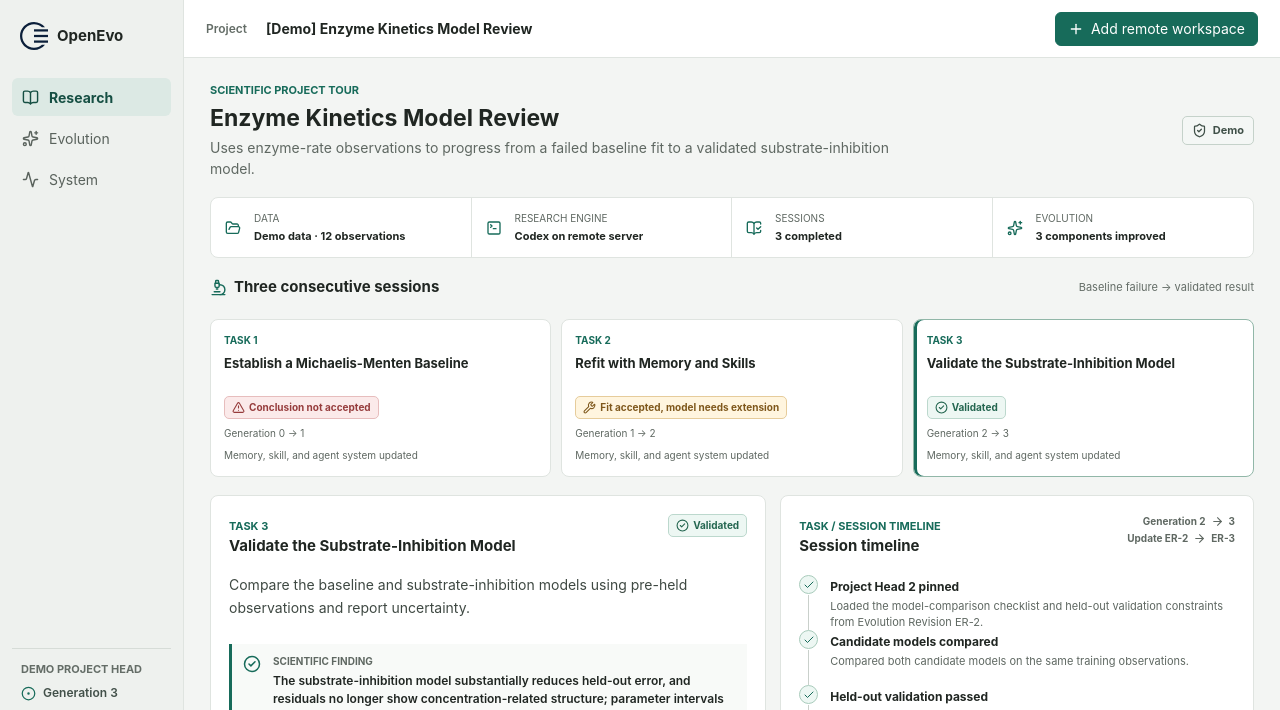
Test: Desktop v2 product renderer › retries failed SSH cleanup as disconnect and keeps lost authority blocked
The width and height of the screenshot is (1280, 710).
Click the button "Add remote workspace" at (1156, 28), box top-left (1055, 12), bottom-right (1258, 46)
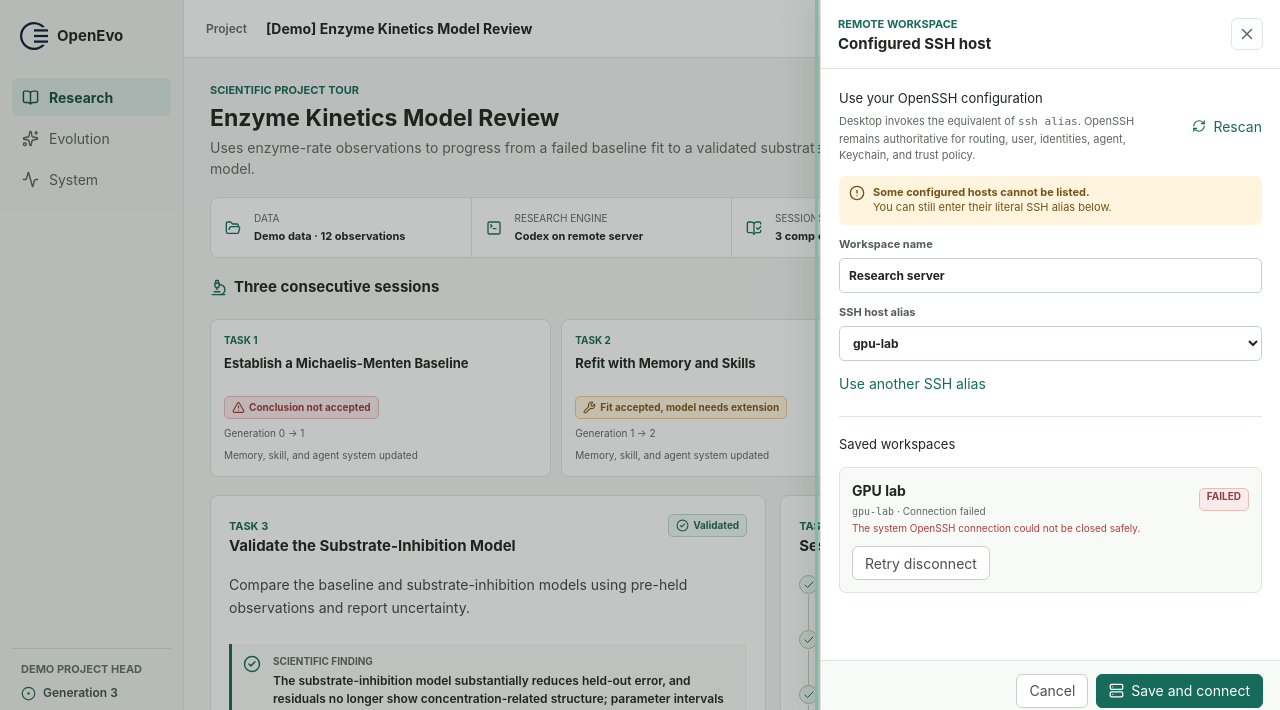
Click the button "Retry disconnect" at (921, 563), box top-left (852, 546), bottom-right (990, 580)
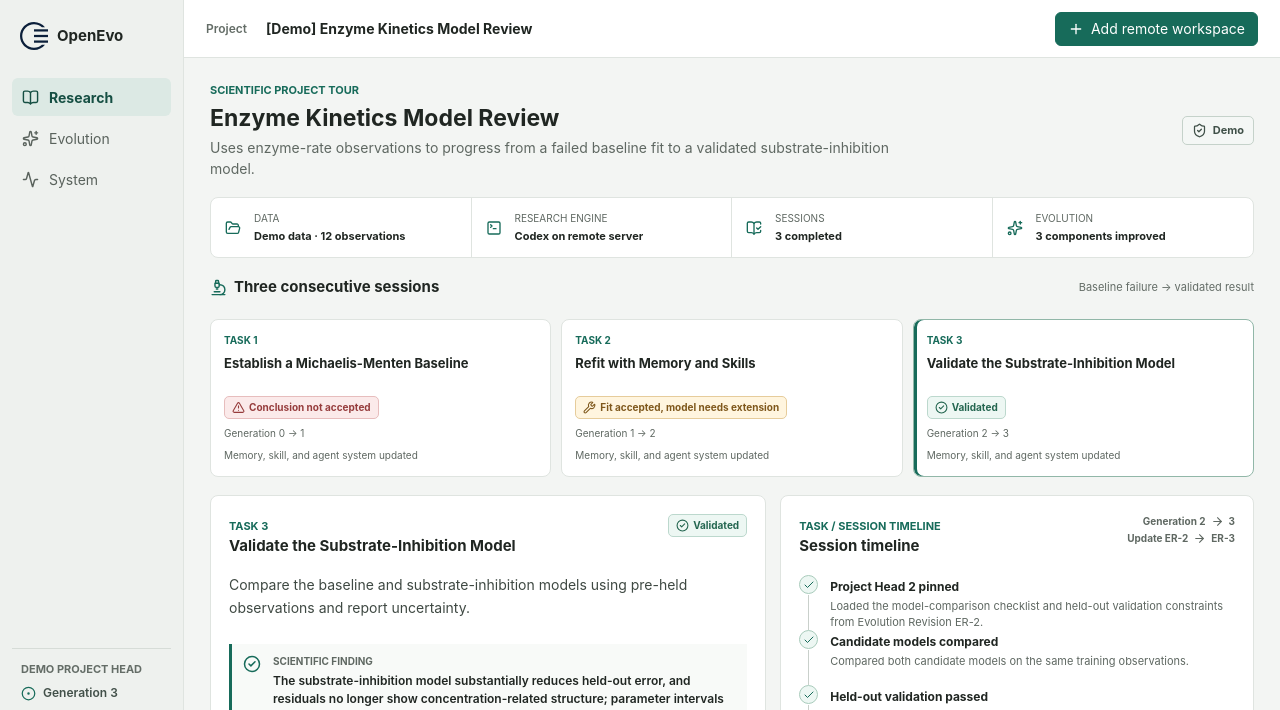
Click the button "Add remote workspace" at (1156, 28), box top-left (1055, 12), bottom-right (1258, 46)
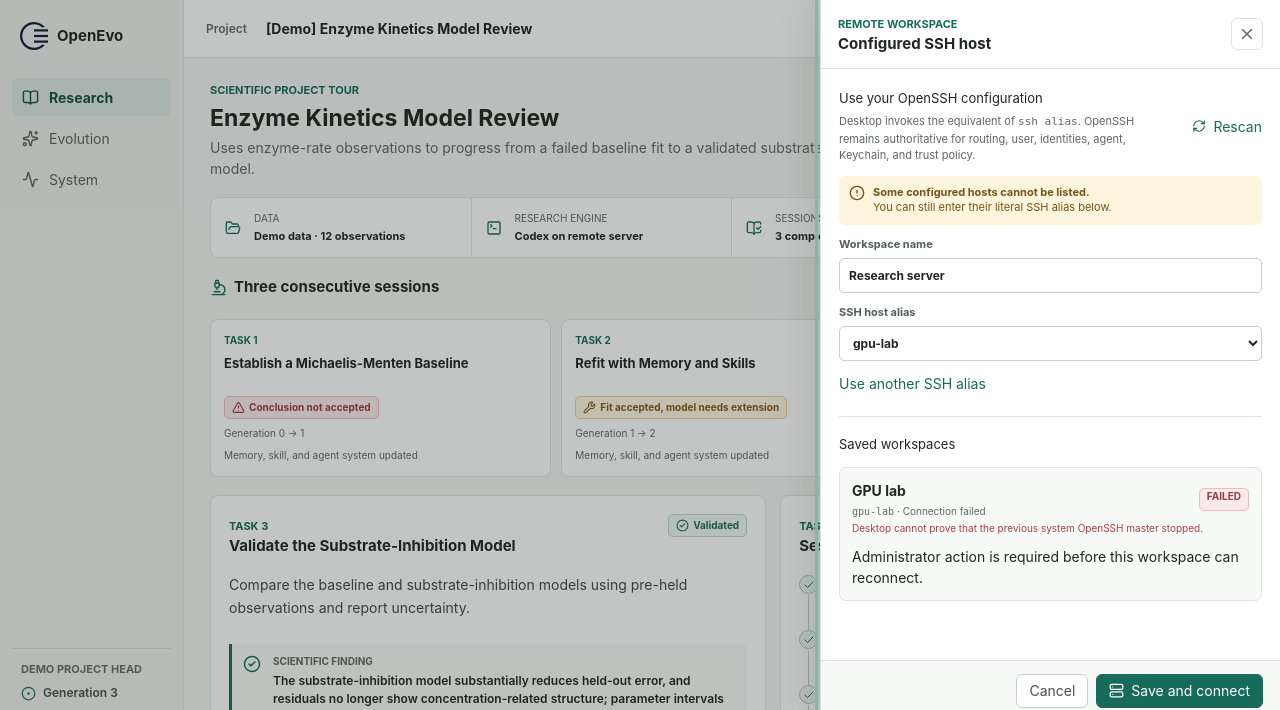
Expected: the dialog shows "Administrator action is required before this workspace can reconnect.", top-left (852, 548), bottom-right (1239, 586)
